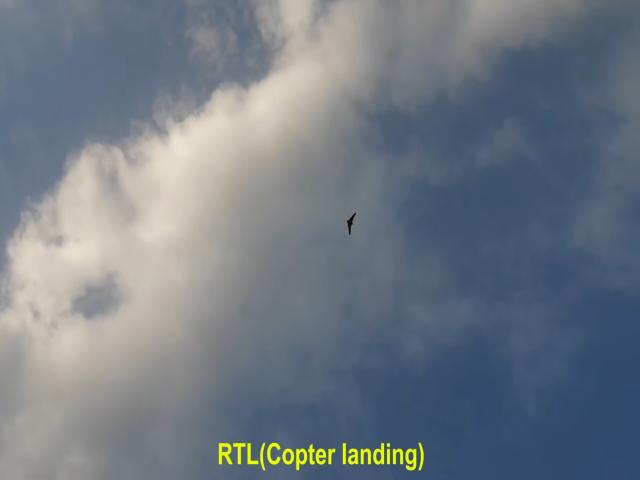plane: (346, 214, 359, 234)
